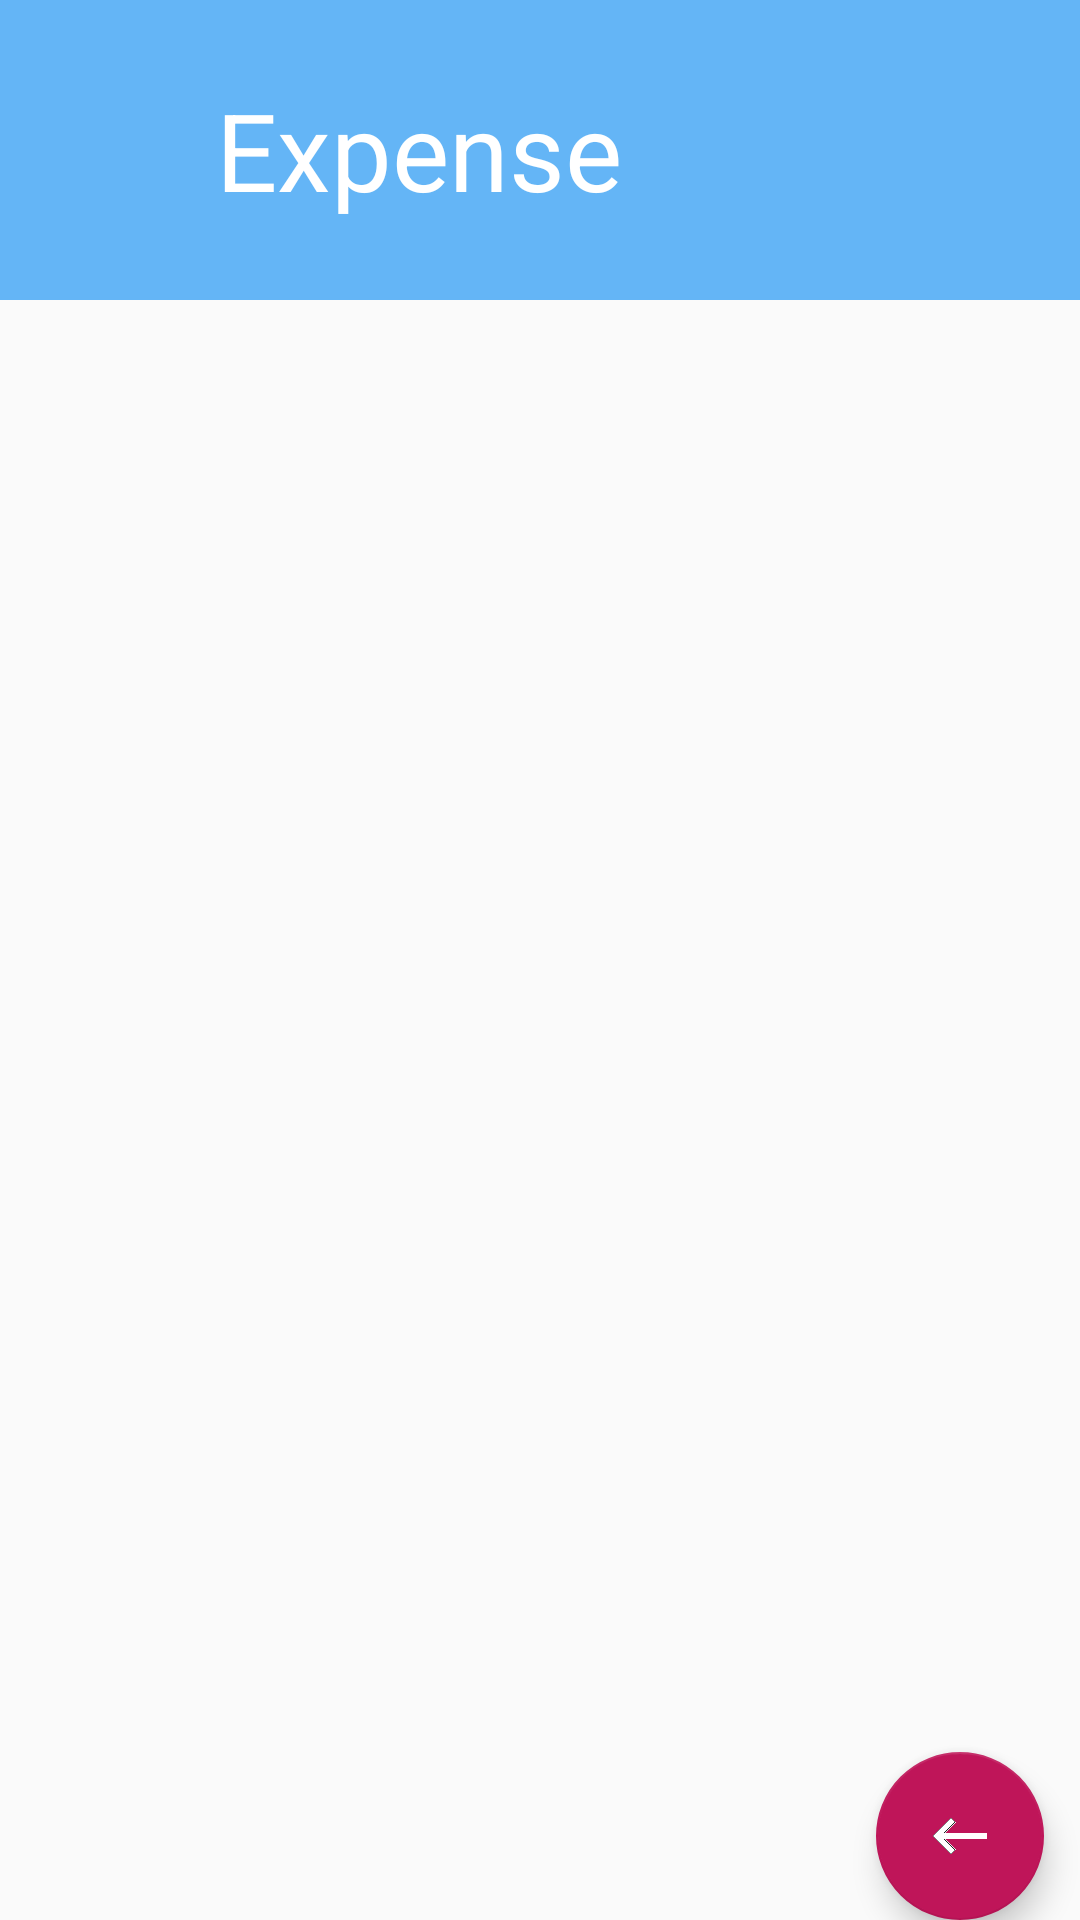

Icons on this 1080px x 1920px Android screen, each with its box as (x1, y1, x2, y2):
backb: (876, 1752, 1044, 1920)
